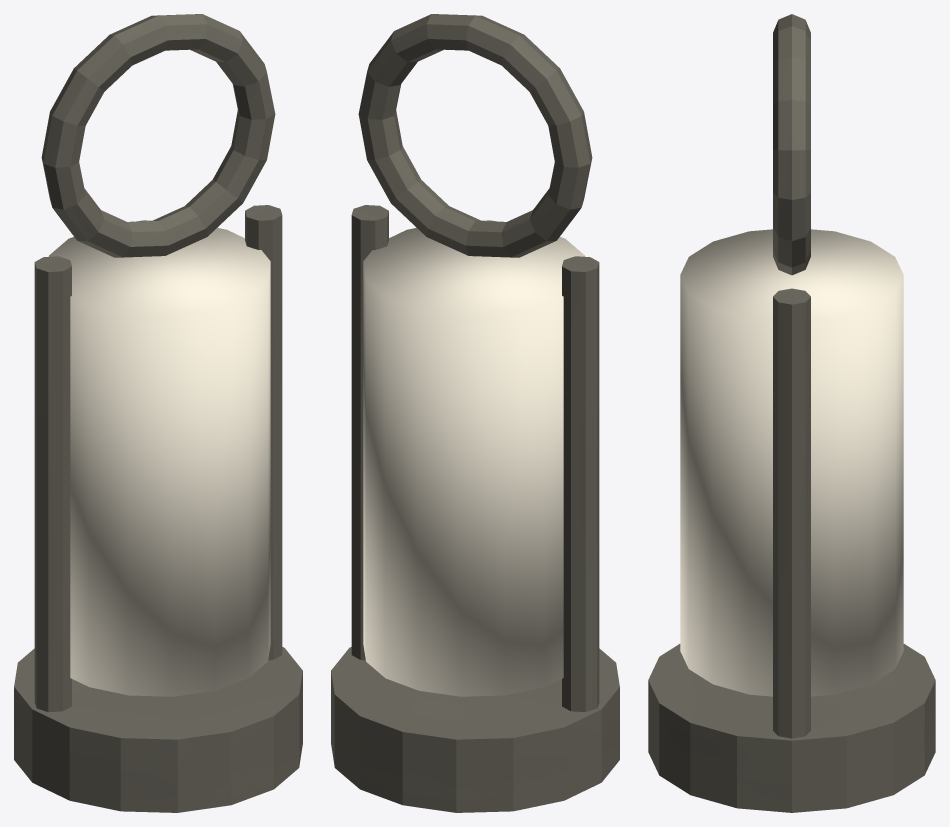
Rendered from lantern.glb.
The picture shows the model from 3 angles, left to right: view 1: azimuth 30°, elevation 25°; view 2: azimuth 150°, elevation 25°; view 3: azimuth 270°, elevation 25°; orthographic projection.
Parts seen in each view (by area): view 1: Lantern_Glass, Lantern_Body, Lantern_Handle; view 2: Lantern_Glass, Lantern_Body, Lantern_Handle; view 3: Lantern_Glass, Lantern_Body, Lantern_Handle.
Boxes of the visible parts, bbox=[...] form: Lantern_Glass: bbox=[49, 220, 270, 696]; Lantern_Body: bbox=[14, 205, 302, 812]; Lantern_Handle: bbox=[41, 14, 275, 257]; Lantern_Glass: bbox=[363, 220, 584, 696]; Lantern_Body: bbox=[331, 205, 619, 812]; Lantern_Handle: bbox=[358, 14, 592, 257]; Lantern_Glass: bbox=[680, 229, 903, 696]; Lantern_Body: bbox=[648, 288, 935, 812]; Lantern_Handle: bbox=[773, 14, 810, 275].
Bounding box in the file's own units: 0.18 × 0.502 × 0.18.
3 materials, 1 textured.
